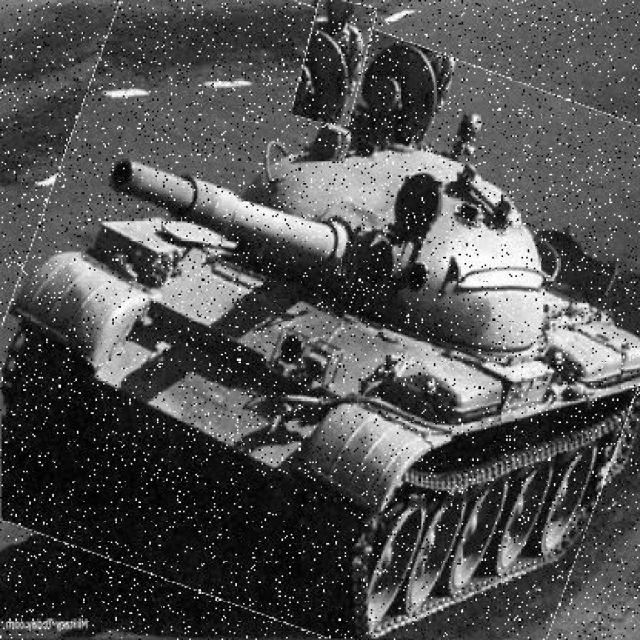Person: (298, 1, 372, 127)
Tank: (2, 1, 640, 639)
